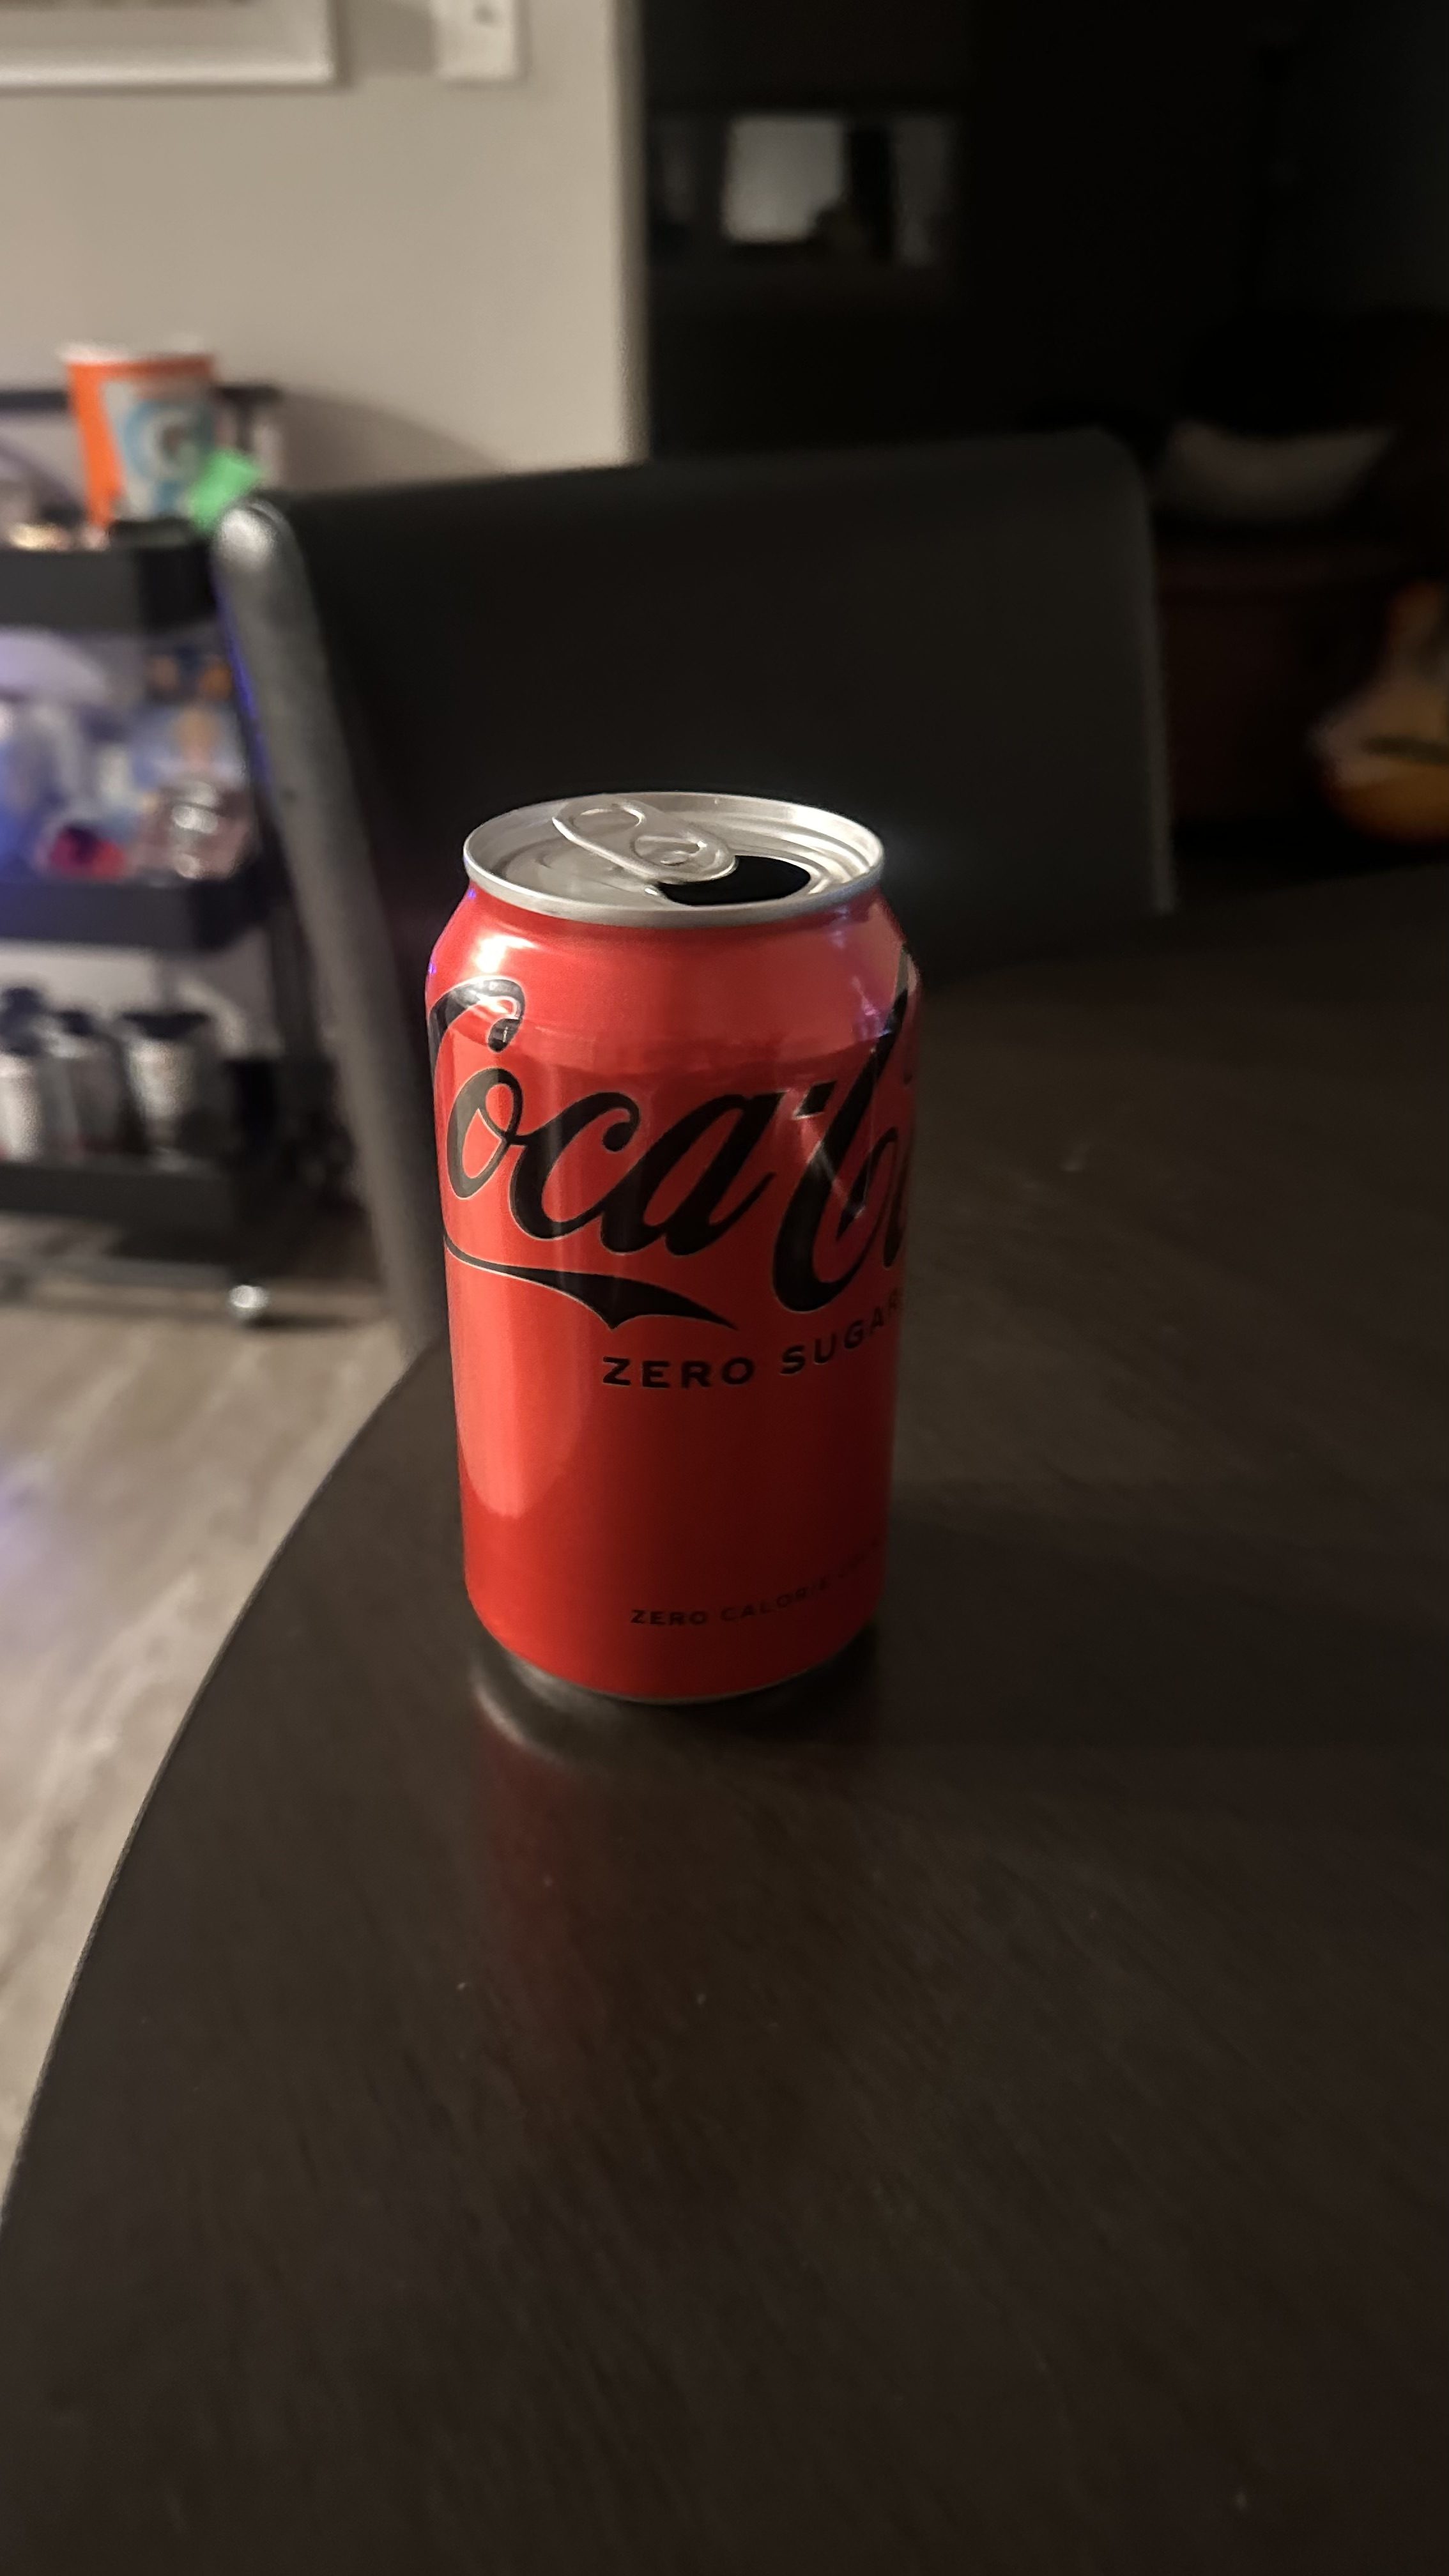Coke Zero: (398, 787, 920, 1734)
